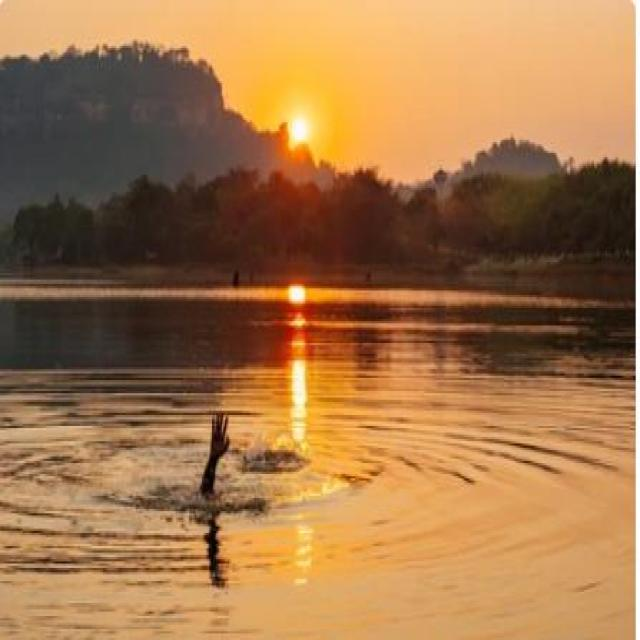Out of Water: (196, 405, 244, 506)
